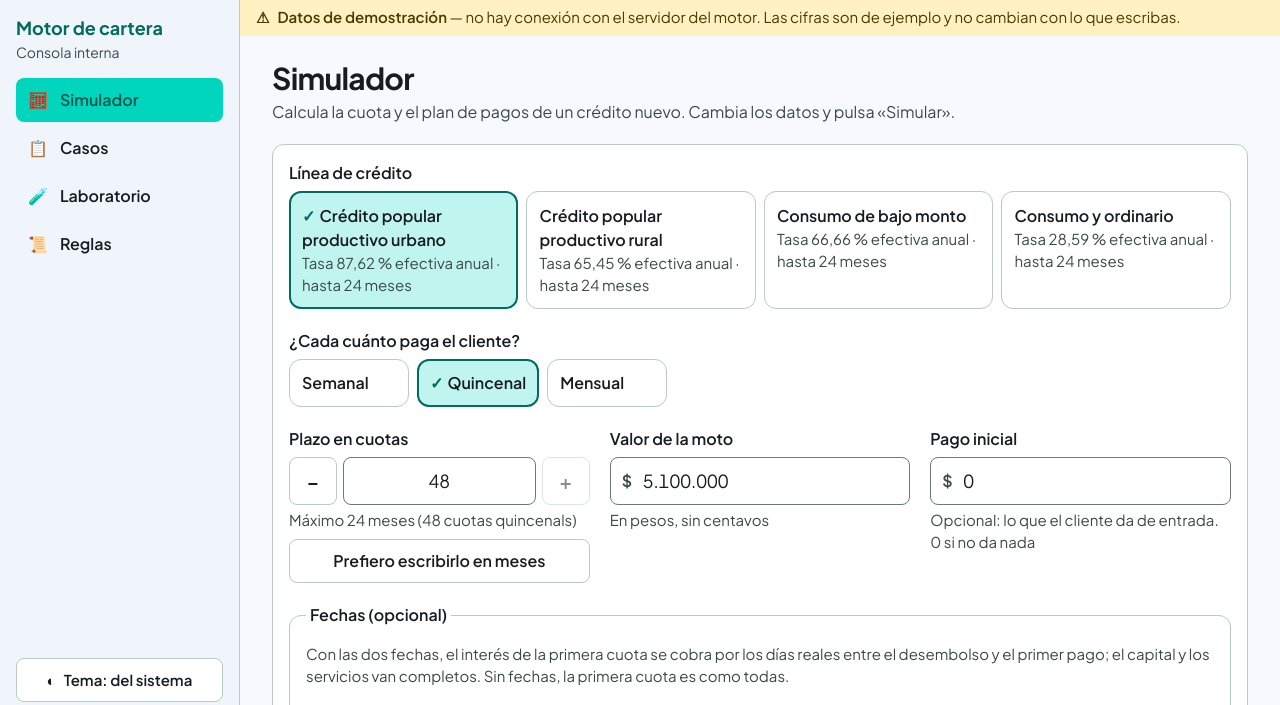
Test: Simulador › cambia a mensual y muestra sus cifras
The width and height of the screenshot is (1280, 705).
Click the radio button labelled "Mensual" at (607, 383), box [547,359,667,407]
(page scrolled)
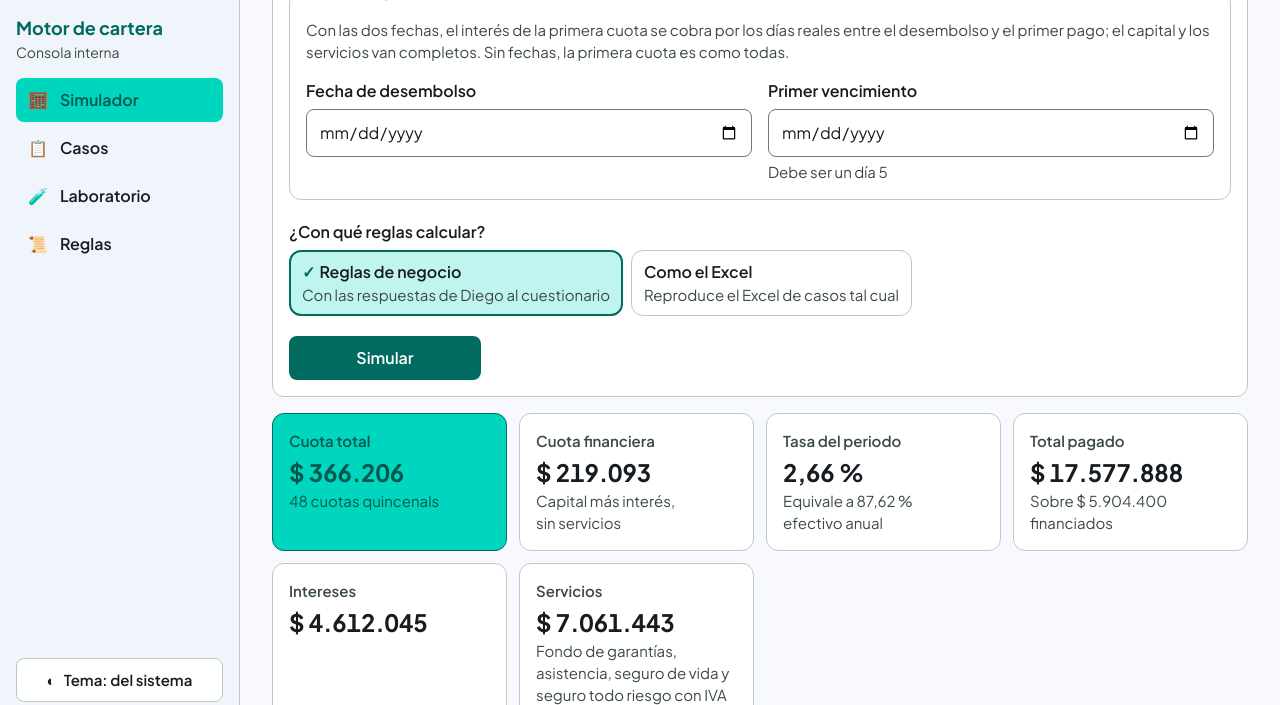
Click the button "Simular" at (385, 358), box [289,336,481,380]
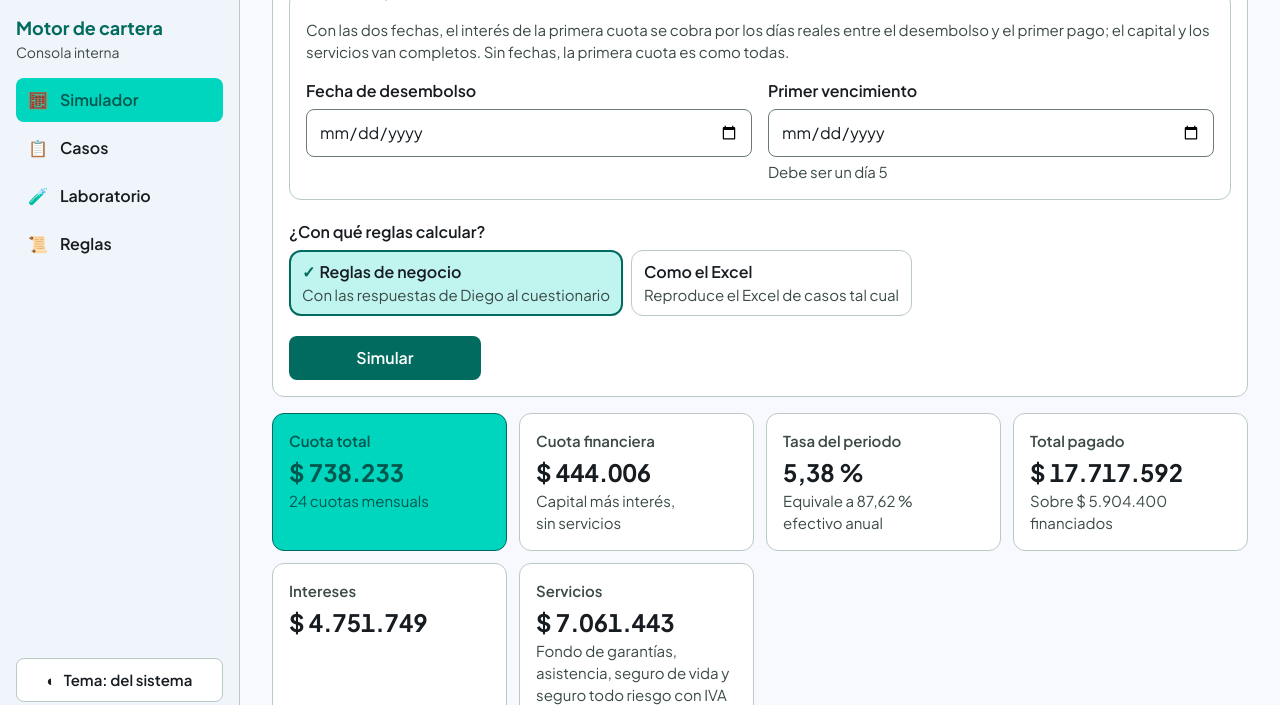
Expected: the text "$ 738.233" is shown, [289,457,404,487]
Expected: the text "$ 444.006" is shown, [536,457,651,487]
Expected: the text "$ 17.717.592" is shown, [1030,457,1183,487]
